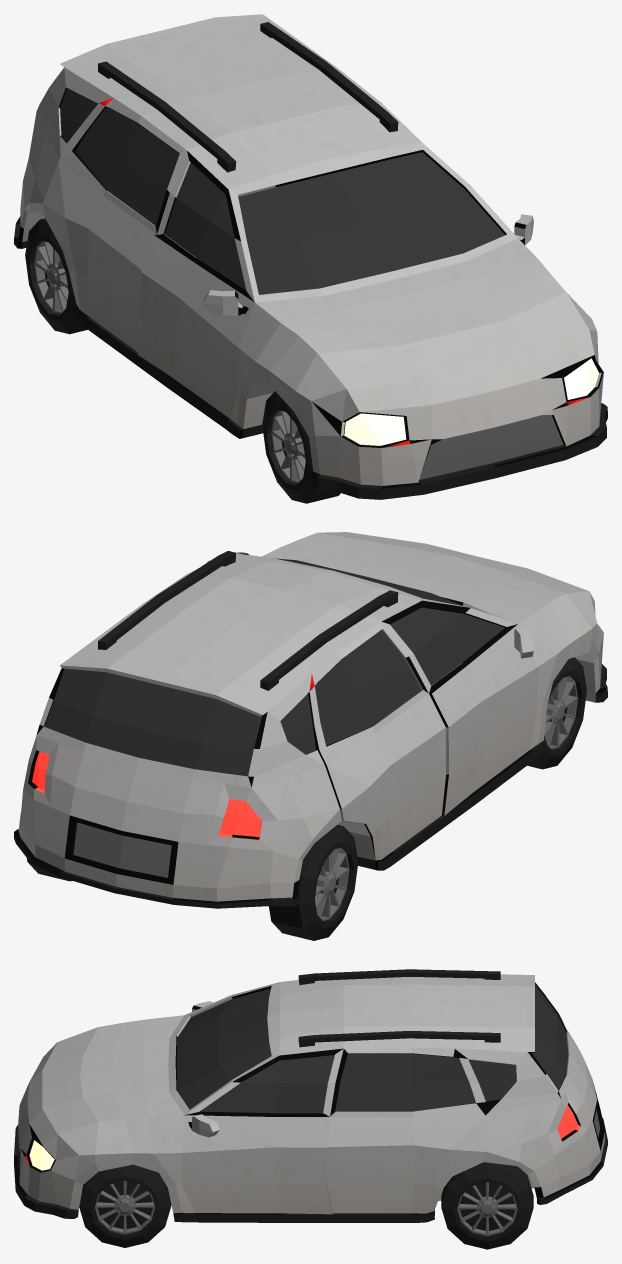
The model's file is citypack-suv-L2.glb.
The picture shows the model from 3 angles, top to bottom: view 1: azimuth 30°, elevation 25°; view 2: azimuth 150°, elevation 25°; view 3: azimuth 270°, elevation 25°; orthographic projection. The views are drawn at different scales.
Visible parts, largest first — view 1: body, wheel-front-left, wheel-back-left, wheel-front-left.1, wheel-back-left.1; view 2: body, wheel-back-left, wheel-front-left, wheel-back-left.1, wheel-front-left.1; view 3: body, wheel-back-right, wheel-front-right, wheel-front-right.1, wheel-back-right.1.
Boxes of the visible parts, box(x1,y1,x2,y2) form: body: box(14, 14, 607, 499); wheel-front-left: box(262, 391, 340, 503); wheel-back-left: box(25, 218, 87, 334); wheel-front-left.1: box(271, 410, 305, 483); wheel-back-left.1: box(34, 241, 68, 314); body: box(14, 532, 607, 908); wheel-back-left: box(269, 824, 358, 940); wheel-front-left: box(527, 657, 586, 769); wheel-back-left.1: box(315, 848, 349, 920); wheel-front-left.1: box(544, 676, 577, 749); body: box(14, 969, 607, 1222); wheel-back-right: box(441, 1162, 533, 1249); wheel-front-right: box(79, 1164, 171, 1247); wheel-front-right.1: box(95, 1180, 155, 1234); wheel-back-right.1: box(457, 1182, 517, 1235).
Bounding box in the file's own units: 2.11 × 1.53 × 4.21.
Materials: 3 (1 with a texture image).
